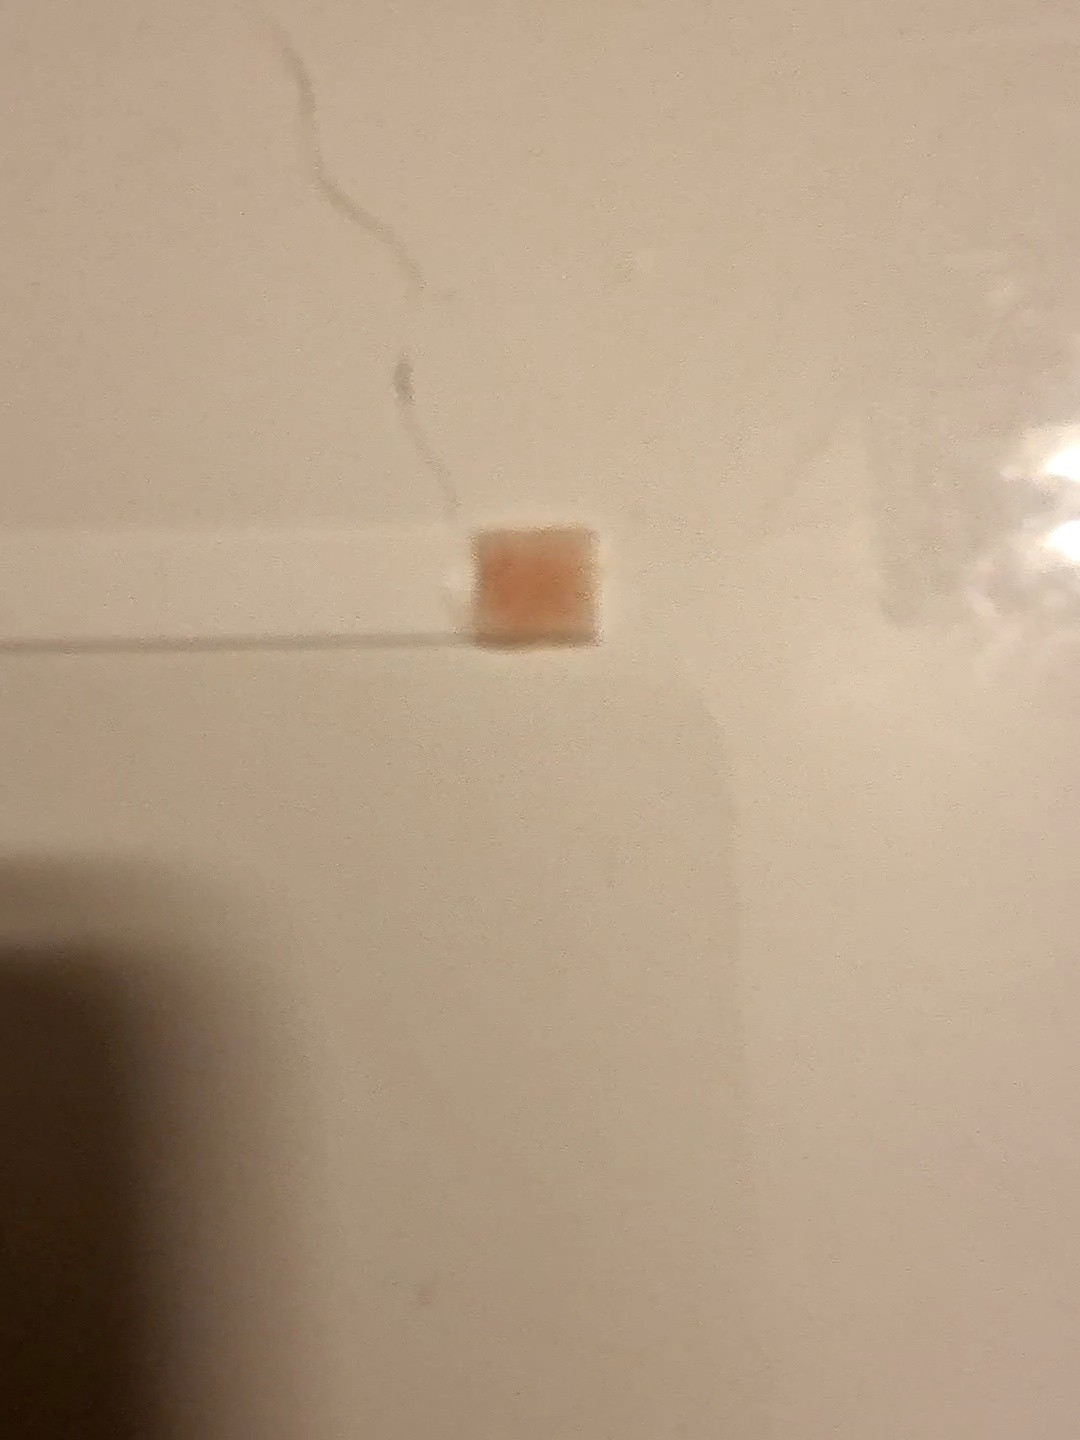keto-tip: (467, 520, 610, 655)
